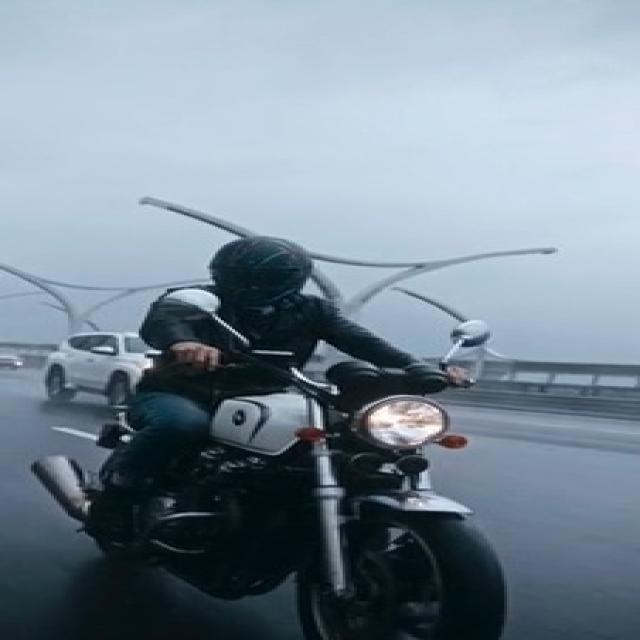Helmet_Wearer: (178, 238, 346, 310)
Jacket_Wearer: (137, 287, 422, 416)
Person: (88, 234, 436, 568)
